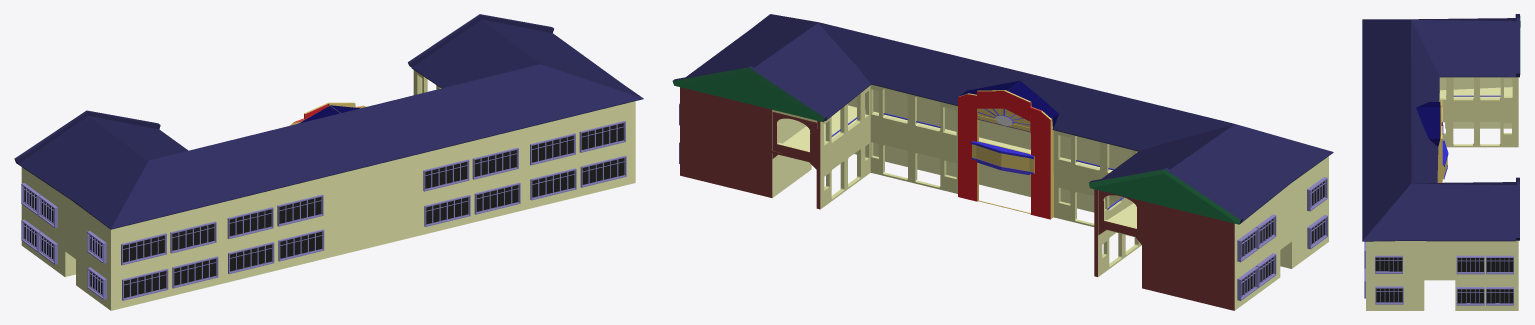
Rendered from newyellow.glb.
3 views of the same model, side by side, from view 1: azimuth 30°, elevation 25°; view 2: azimuth 150°, elevation 25°; view 3: azimuth 270°, elevation 25° (orthographic). The views are drawn at different scales.
Parts seen in each view (by area): view 1: Yellow; view 2: Yellow; view 3: Yellow.
Boxes of the visible parts, box(x1,y1,x2,y2) form: Yellow: box(14, 14, 643, 310); Yellow: box(672, 14, 1333, 310); Yellow: box(1362, 14, 1520, 310).
Size of the model in its own units: 19.97 by 4.23 by 5.94.
